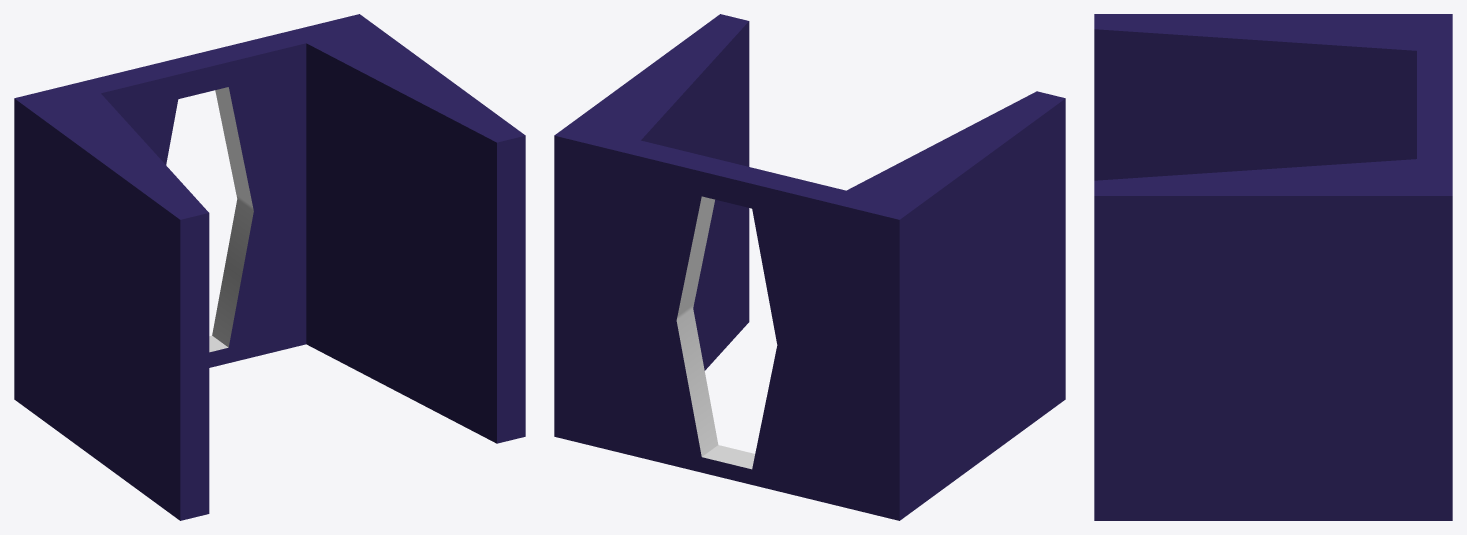
Rendered from vertical gap.fbx.
3 renders of one model, left to right at view 1: azimuth 30°, elevation 25°; view 2: azimuth 150°, elevation 25°; view 3: azimuth 270°, elevation 25°, orthographic. The views are drawn at different scales.
Parts seen in each view (by area): view 1: Cube_1, Cylinder; view 2: Cube_1, Cylinder; view 3: Cube_1.
Part boxes in pixels (left/top/right/bottom): Cube_1: left=14, top=14, right=525, bottom=520; Cylinder: left=209, top=87, right=253, bottom=352; Cube_1: left=554, top=14, right=1065, bottom=520; Cylinder: left=676, top=196, right=754, bottom=469; Cube_1: left=1094, top=14, right=1452, bottom=520.
Bounding box in the file's own units: 240 × 200 × 200.
